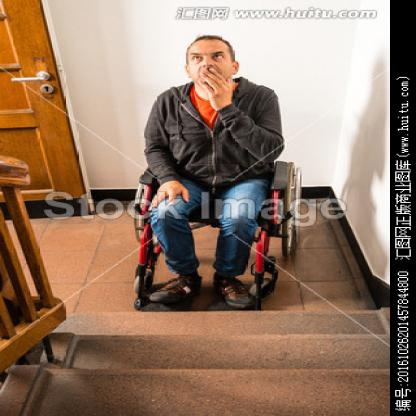wheelchair: (127, 28, 311, 312)
